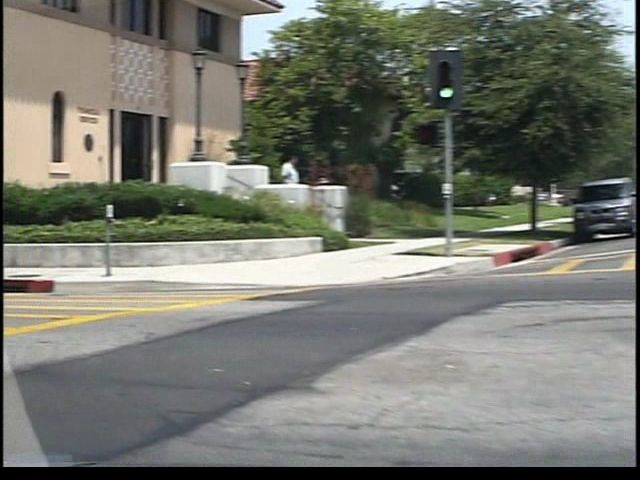person: (266, 150, 289, 220)
